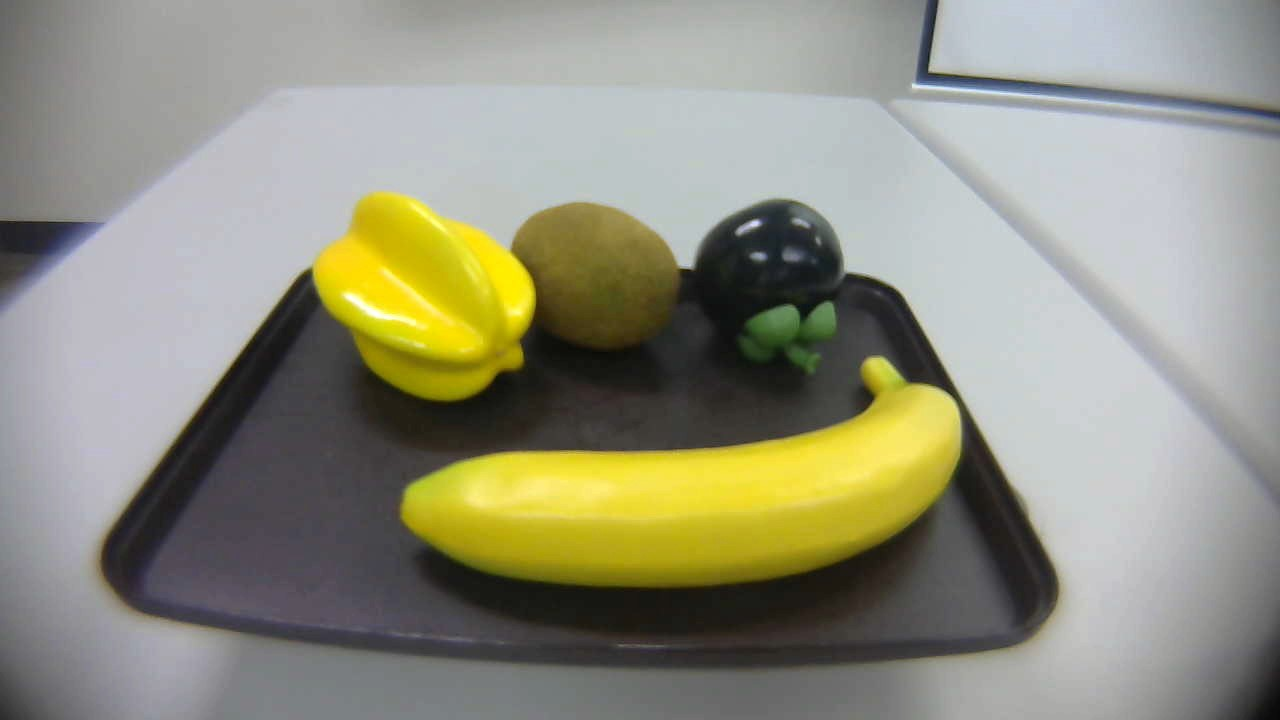banana: (397, 351, 990, 606)
kiwi fruit: (495, 199, 682, 363)
mangosteen: (691, 196, 847, 379)
star fruit: (303, 188, 543, 414)
